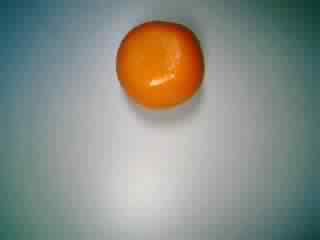orange: (112, 15, 207, 117)
